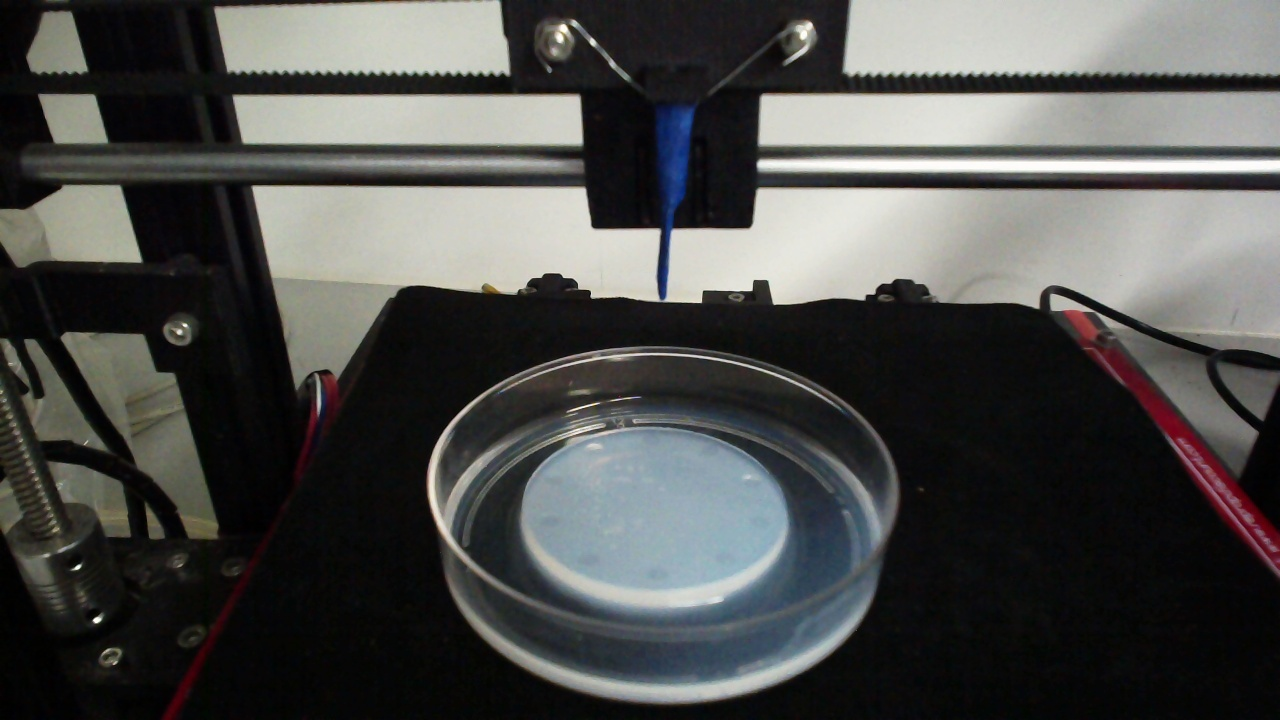groove: (746, 512, 775, 530), (576, 551, 602, 569), (740, 472, 766, 490), (536, 513, 562, 530), (697, 441, 723, 458), (646, 565, 669, 583), (714, 550, 735, 568), (542, 472, 564, 488), (641, 432, 663, 448), (585, 442, 603, 456)
needle: (657, 105, 694, 301)
